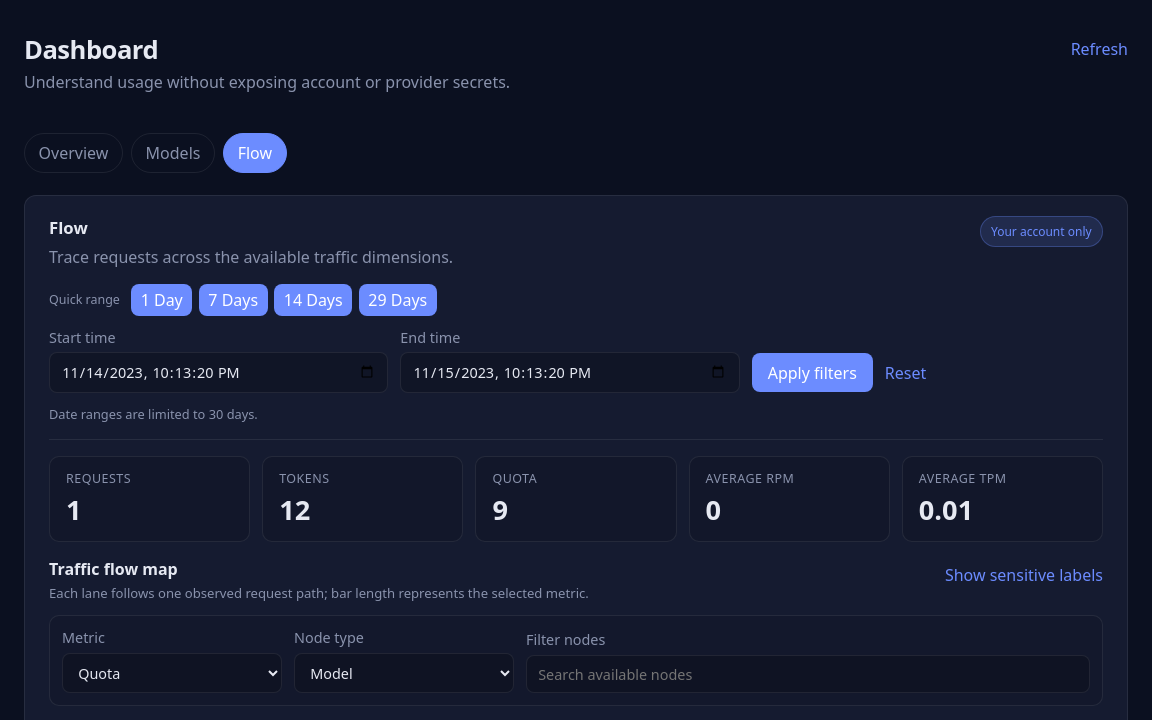
Test: DashboardView › keeps the unknown-token stage in self-service flow rows
Click the button "Show sensitive labels": point(1024, 575) [945,558,1103,592]
(page scrolled)
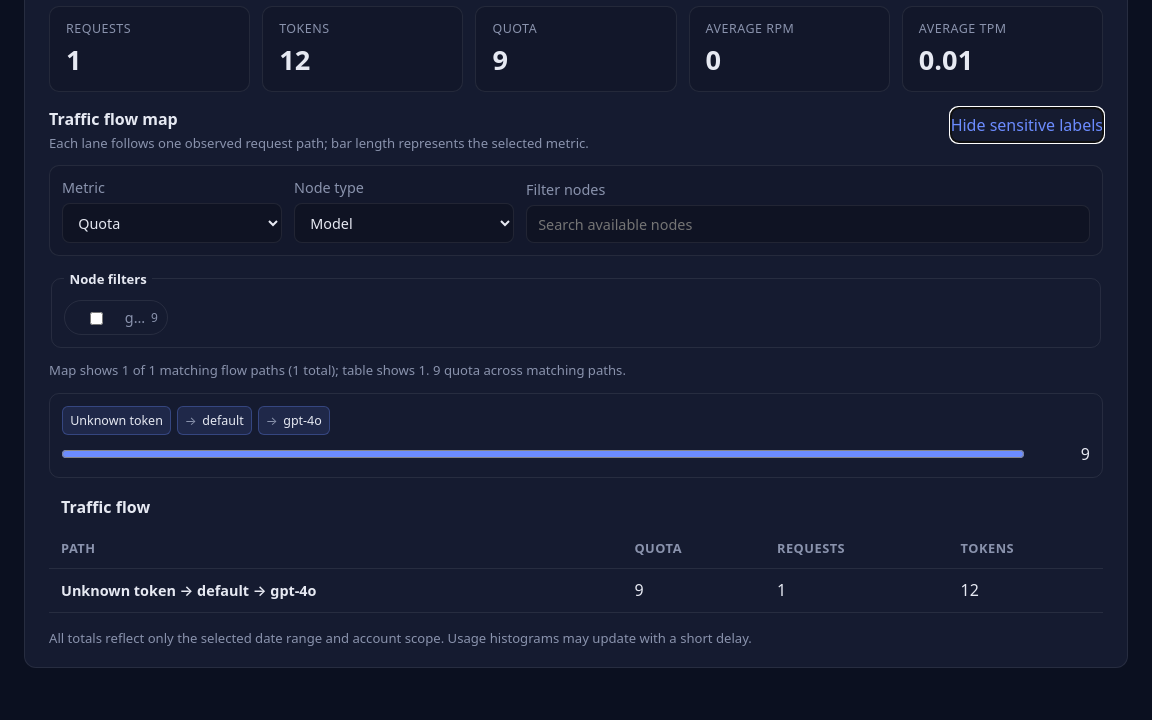
Check: the column heading "Unknown token → default → gpt-4o" is shown, box [49,568,622,612]
